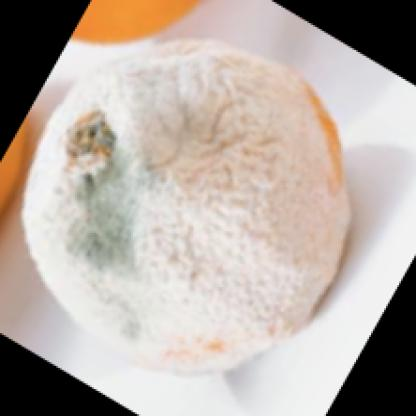rotten: (24, 41, 354, 373)
